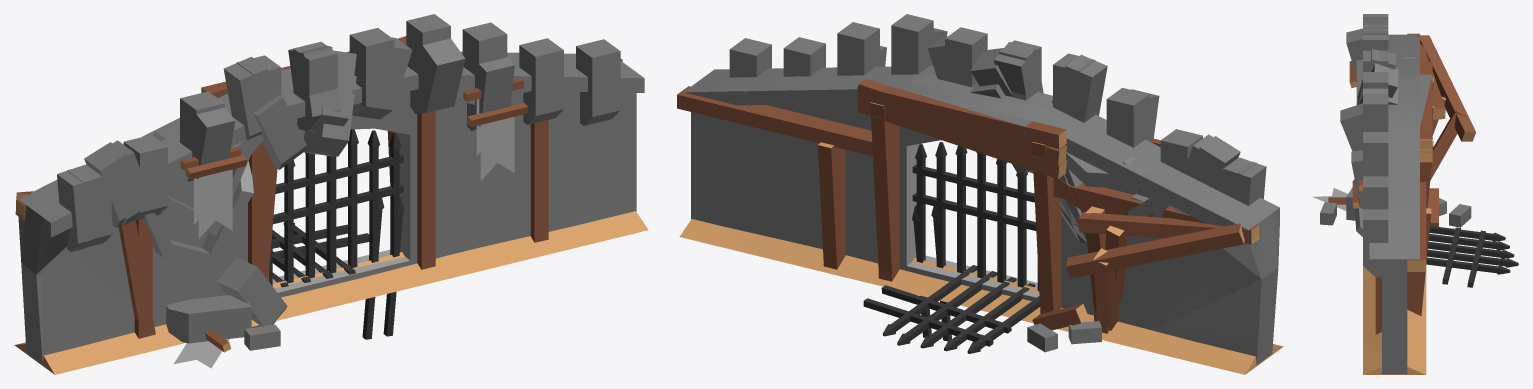
File: Stone Gate.fbx
3 renders of one model, left to right at view 1: azimuth 30°, elevation 25°; view 2: azimuth 150°, elevation 25°; view 3: azimuth 270°, elevation 25°, orthographic. The views are drawn at different scales.
Visible parts, largest first — view 1: Wall, Destruction_phase_2 (×2), Destruction_phase_1, Iron_Gate, Flag_1, Flag_2, Flag_x; view 2: Wall, Destruction_phase_2 (×2), Destruction_phase_1, Iron_Gate; view 3: Wall, Destruction_phase_2 (×2), Destruction_phase_1, Flag_x.
Part boxes in pixels (left/top/right/bottom): Wall: left=14, top=14, right=648, bottom=374; Destruction_phase_2 (×2): left=16, top=37, right=636, bottom=364; Destruction_phase_1: left=15, top=36, right=644, bottom=280; Iron_Gate: left=269, top=129, right=403, bottom=285; Flag_1: left=198, top=169, right=232, bottom=238; Flag_2: left=480, top=117, right=514, bottom=180; Flag_x: left=174, top=339, right=229, bottom=368; Wall: left=679, top=14, right=1283, bottom=374; Destruction_phase_2 (×2): left=677, top=36, right=1279, bottom=364; Destruction_phase_1: left=684, top=28, right=1278, bottom=344; Iron_Gate: left=912, top=142, right=1039, bottom=291; Wall: left=1359, top=16, right=1432, bottom=374; Destruction_phase_2 (×2): left=1320, top=14, right=1518, bottom=316; Destruction_phase_1: left=1340, top=26, right=1446, bottom=258; Flag_x: left=1313, top=188, right=1347, bottom=210.
Size of the model in its own units: 4.26 by 2.14 by 1.63.
3 materials, 1 textured.
